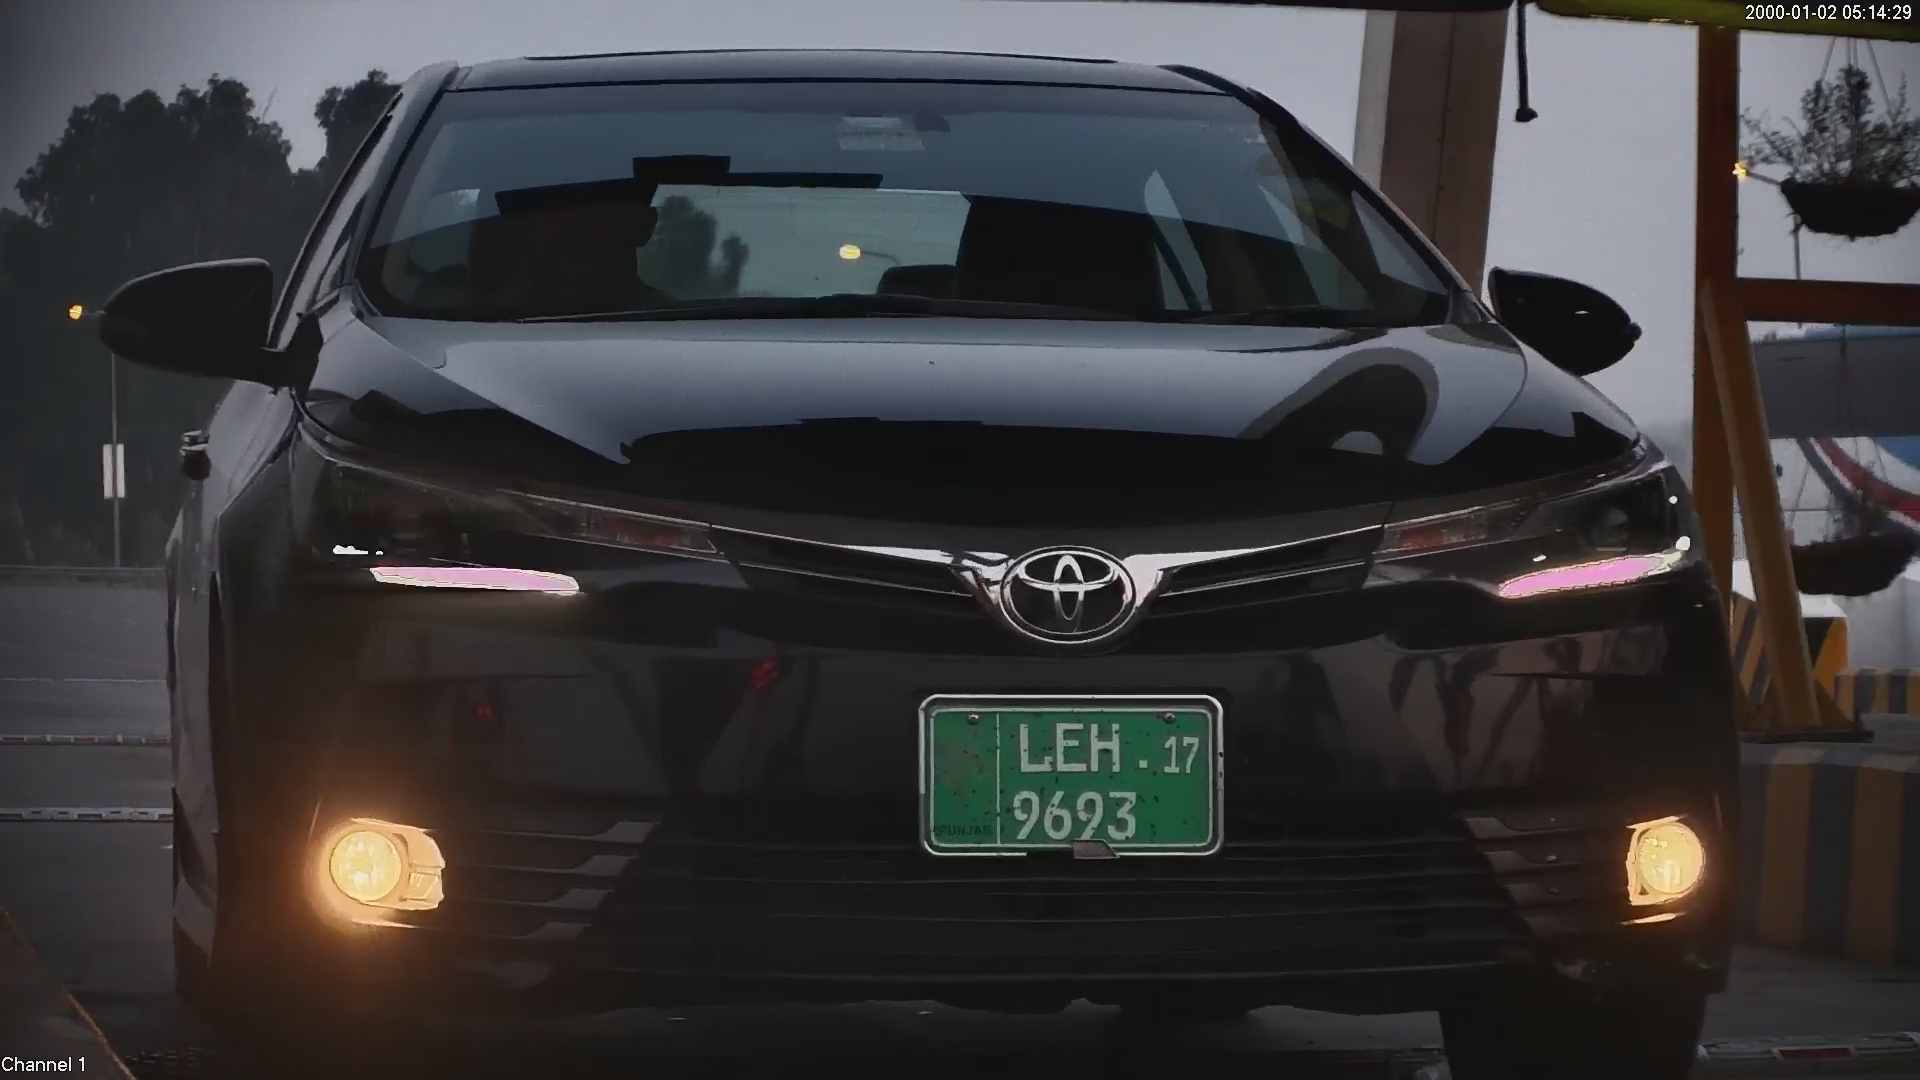Number_Plate: (910, 672, 1236, 876)
